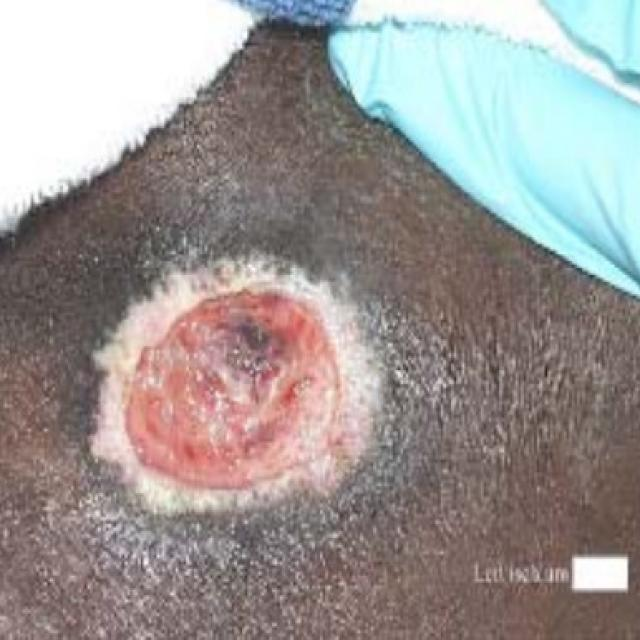stage-3: (126, 292, 339, 487)
